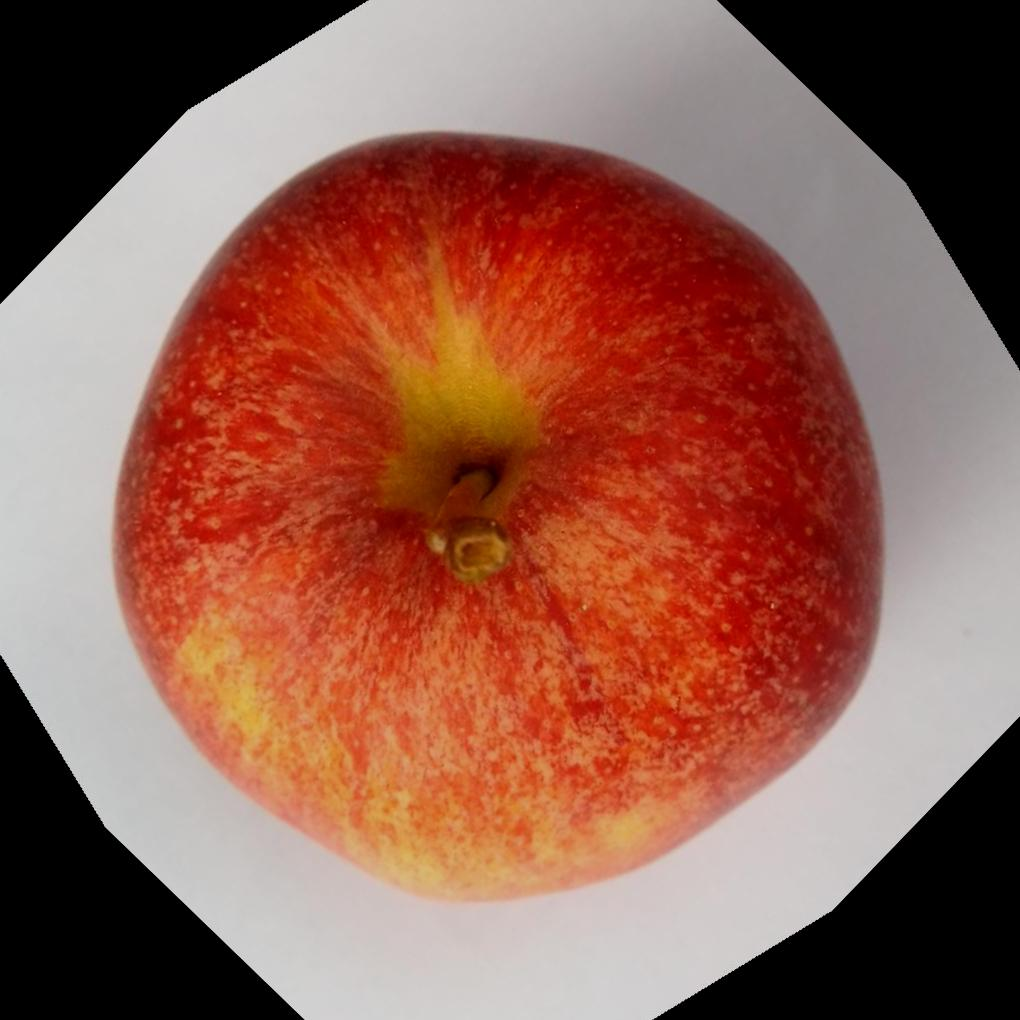FreshGuava: (109, 130, 885, 910)
